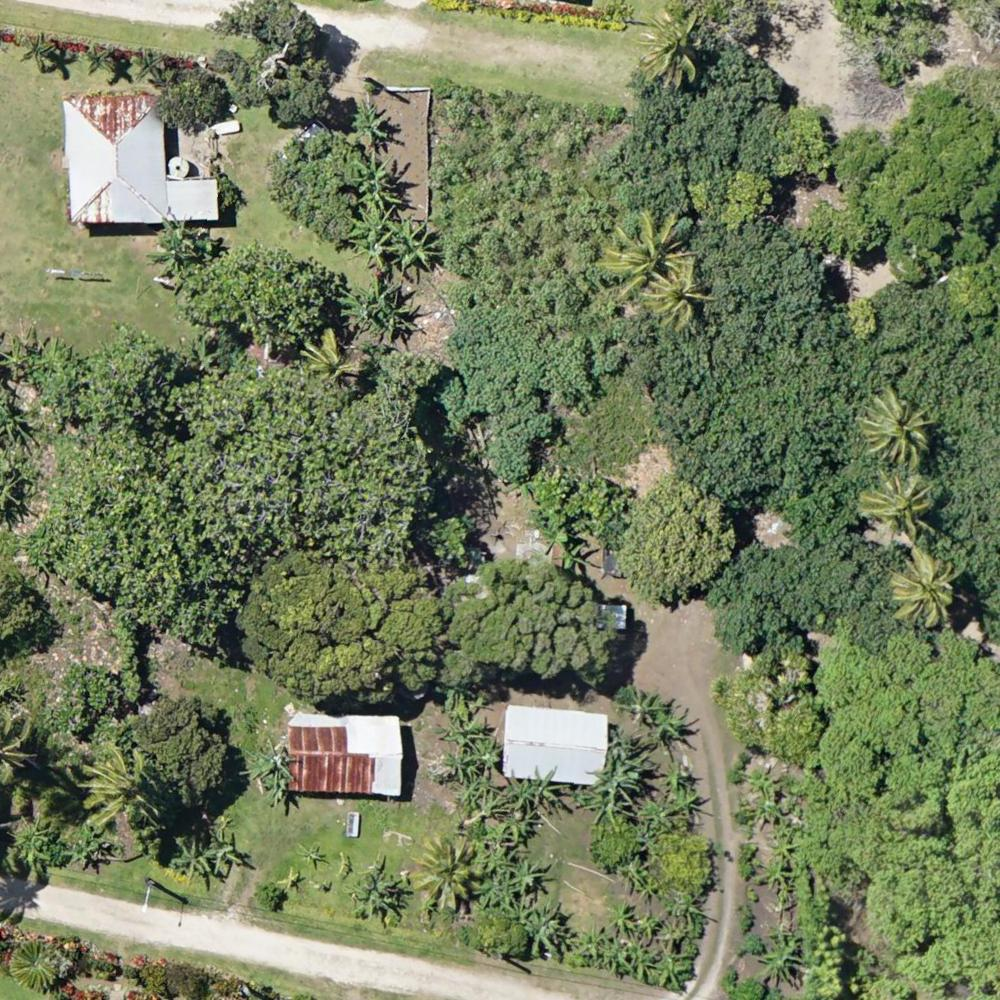Palm: (603, 211, 684, 292), (858, 388, 937, 469), (79, 746, 153, 827), (885, 548, 959, 626), (856, 471, 934, 542), (638, 7, 708, 85), (646, 260, 701, 329), (299, 332, 356, 385)
